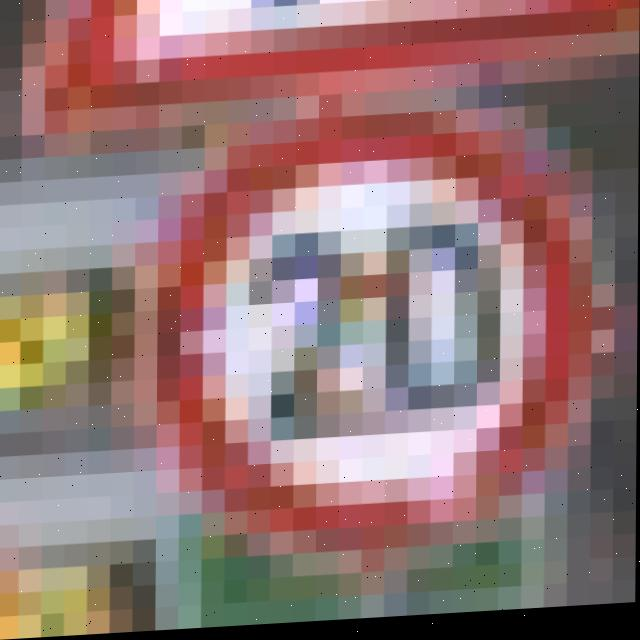speed_limit_20: (142, 82, 625, 570)
